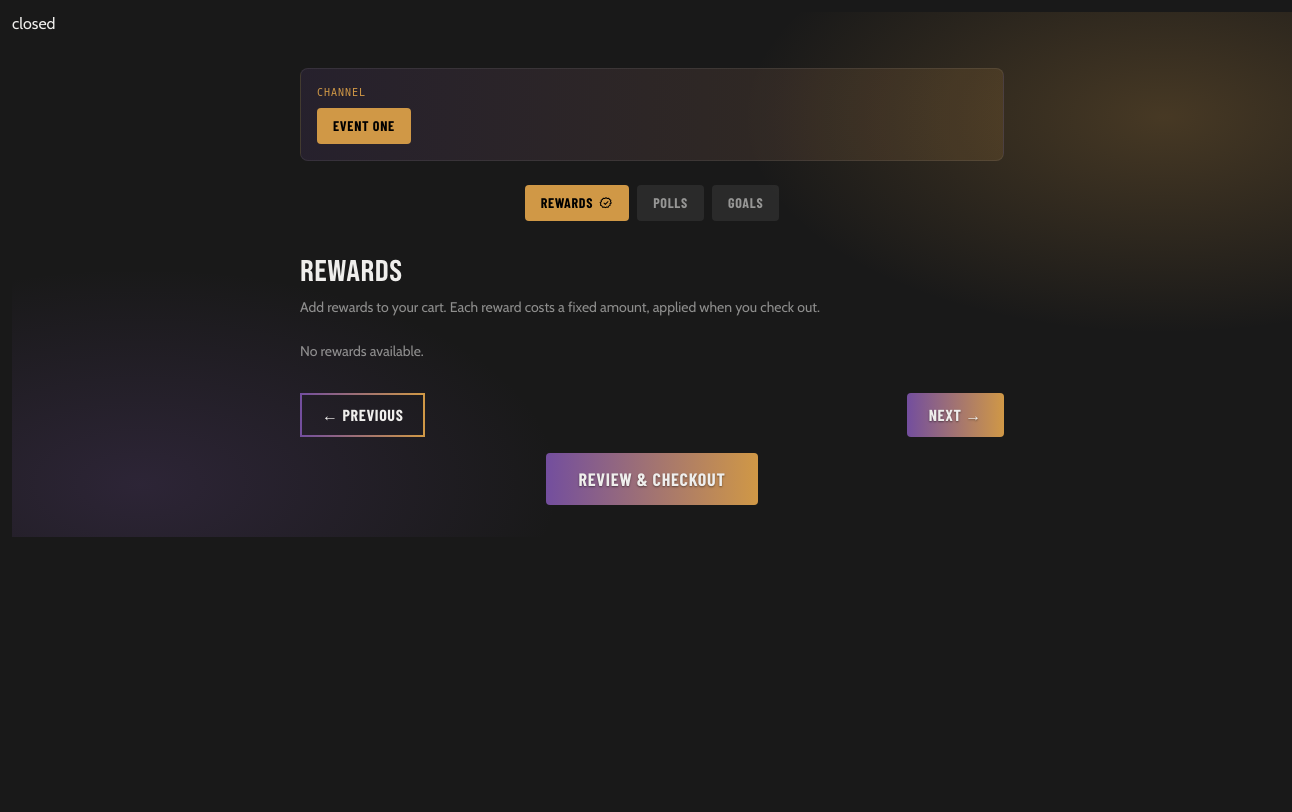
Scenario: DonateFlow (tabbed browse page) › opens the drawer on a second checkout click, bypassing the warning
expect the text "No rewards available." is shown: met, box 300,342 -> 424,360
Step 1. Click the button "review & checkout" → (652, 479), box 546,453 -> 758,505
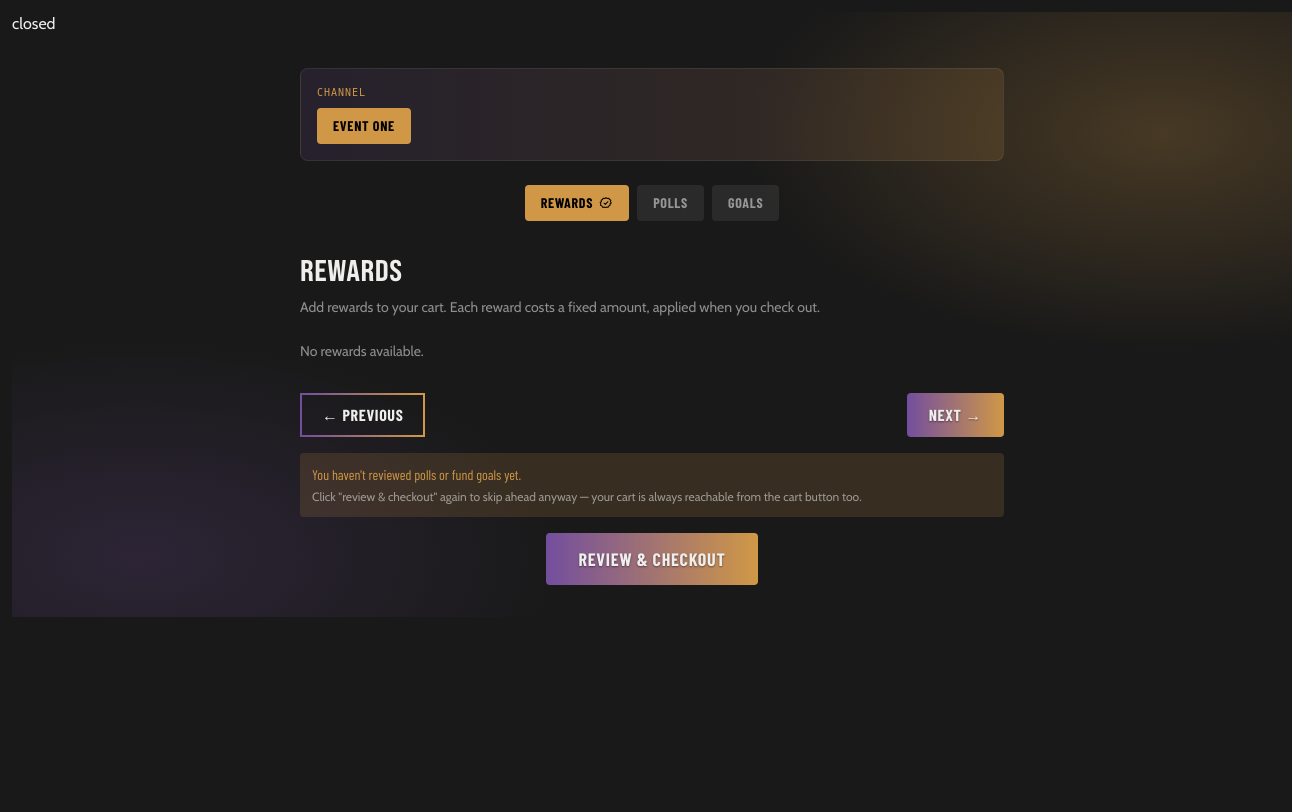
expect the text "You haven't reviewed polls or fund goals yet." is shown: met, box 312,466 -> 521,483
Step 2. Click the button "review & checkout" → (652, 559), box 546,533 -> 758,585
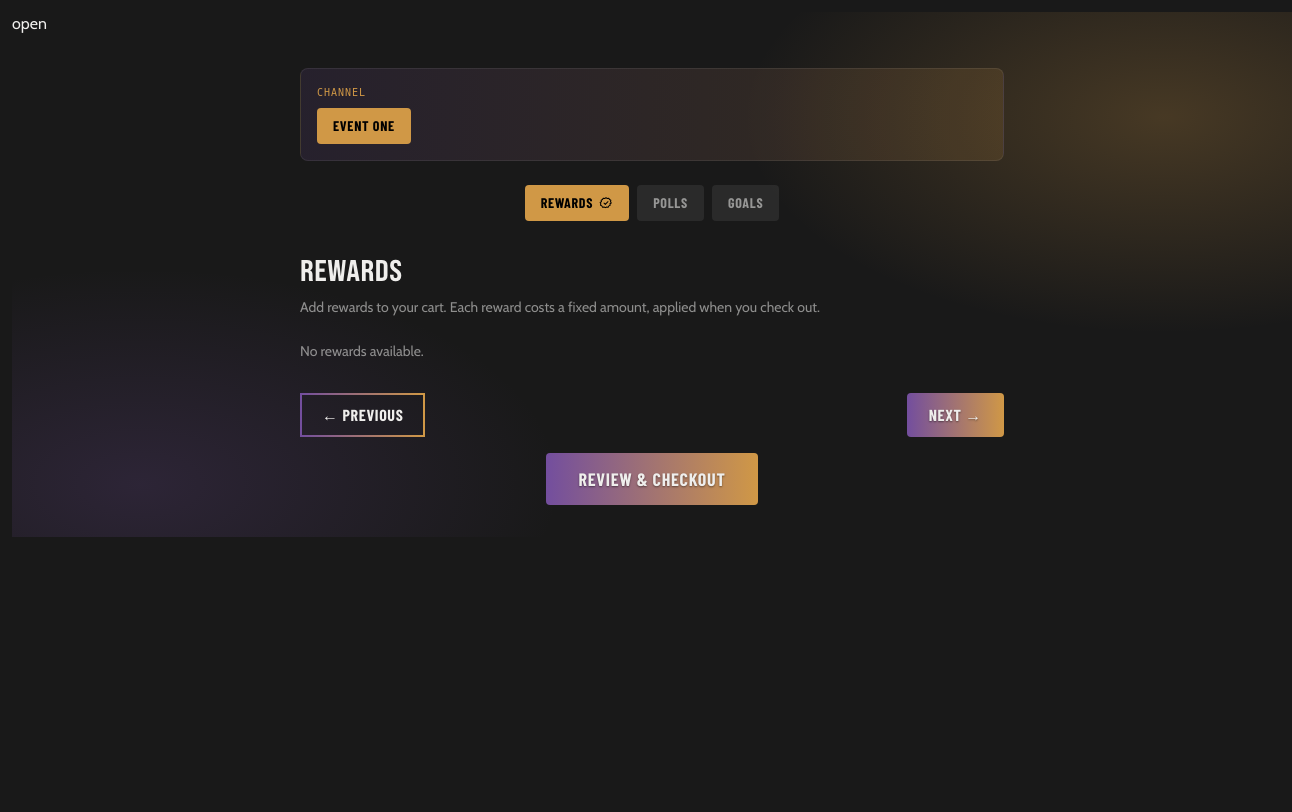
expect the text with test id "drawer-state" reads "open": met, box 12,14 -> 47,33
